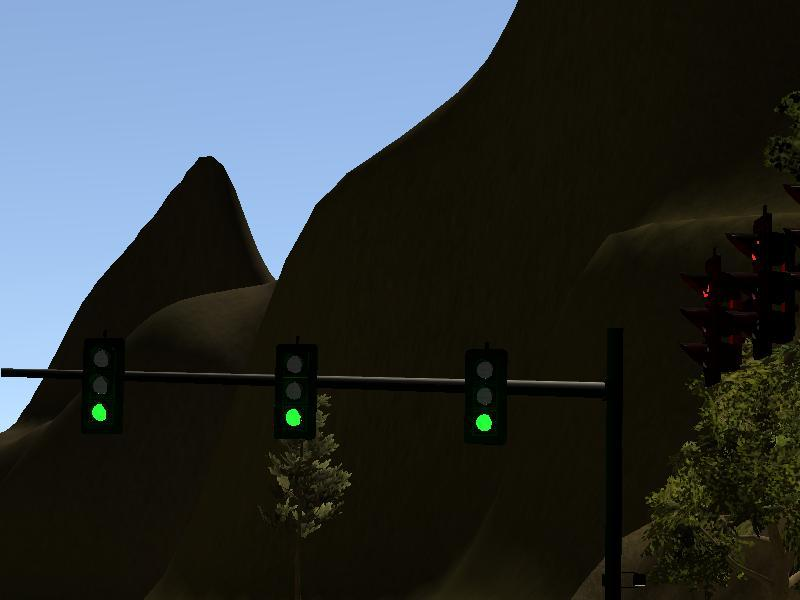Green: (83, 337, 124, 437), (278, 345, 316, 440), (471, 347, 505, 445)
